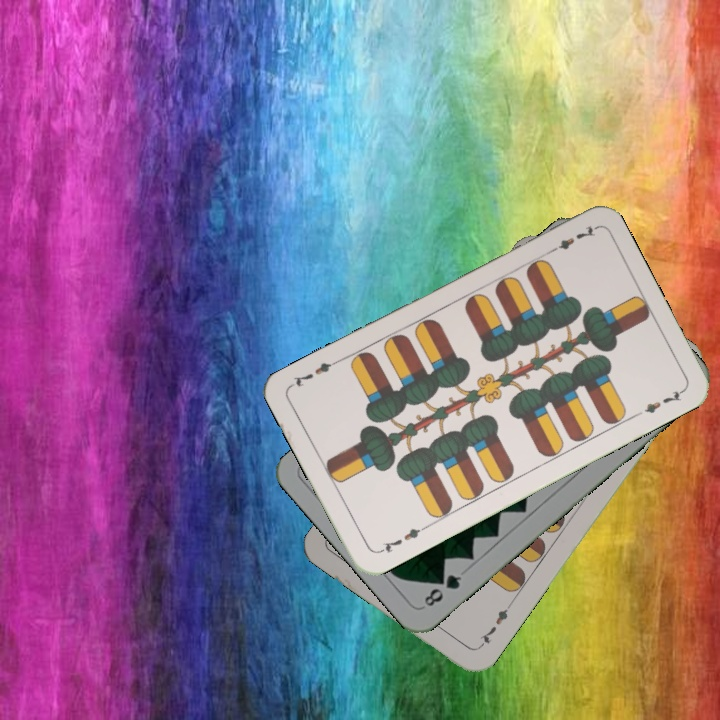E7: (544, 222, 598, 257), (374, 522, 429, 556), (474, 604, 511, 651)
G8: (419, 570, 465, 610)
